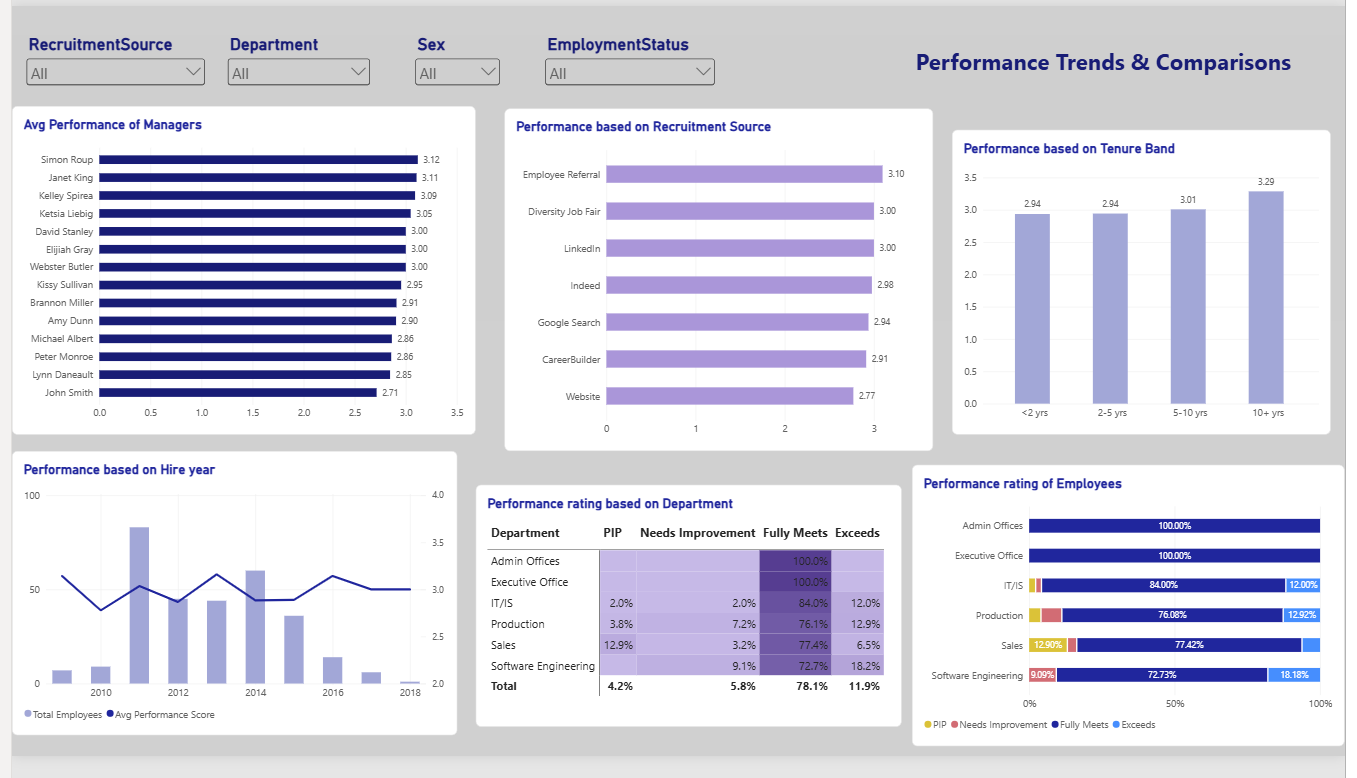

Layout of this report page (visuals, bound fields, positions):
{"tool":"powerbi","page":{"name":"Performance trends","canvas":[1920,1080],"ordinal":1},"visuals":[{"type":"textbox","box":[1302.2,57.6,598,86.5],"z":0},{"type":"slicer","fields":{"Values":["HR.Department"]},"box":[306.2,41.4,214.3,102.7],"z":1000},{"type":"slicer","fields":{"Values":["HR.EmploymentStatus"]},"box":[763.7,41.4,254,102.7],"z":2000},{"type":"slicer","fields":{"Values":["HR.Sex"]},"box":[576.4,41.4,131.5,104.5],"z":3000},{"type":"slicer","fields":{"Values":["HR.RecruitmentSource"]},"box":[16.2,41.4,266.6,102.7],"z":4000},{"type":"lineClusteredColumnComboChart","title":"Performance based on Hire year ","fields":{"Category":["HR.Hire Year"],"Y":["HR.Total Employees"],"Y2":["HR.Avg Performance Score"]},"box":[0,641.9,641.9,409.9],"z":5000},{"type":"hundredPercentStackedBarChart","title":"Performance rating  of Employees","fields":{"Category":["HR.Department"],"Series":["Performance Rating.PerformanceScore"],"Y":["HR.Total Employees"]},"box":[1296.8,661,623.2,405.3],"z":6000},{"type":"pivotTable","title":"Performance rating based on Department","fields":{"Columns":["Performance Rating.PerformanceScore"],"Rows":["HR.Department"],"Values":["HR.Share of Department"]},"box":[668,689,614,348.8],"z":7000},{"type":"clusteredBarChart","title":"Avg Performance of Managers","fields":{"Category":["HR.ManagerName"],"Y":["HR.Avg Performance Score"]},"box":[0,144.1,668.2,473.7],"z":8000},{"type":"clusteredColumnChart","title":"Performance based on Tenure Band","fields":{"Category":["HR.Tenure Band"],"Y":["HR.Avg Performance Score"]},"box":[1354.4,178.3,545.7,439.5],"z":9000},{"type":"clusteredBarChart","title":"Performance based on  Recruitment Source","fields":{"Category":["HR.RecruitmentSource"],"Y":["HR.Avg Performance Score"]},"box":[709.6,147.7,617.8,493.5],"z":10000}]}

Visuals, with their boxes in screenshot pixels (x1, y1, x2, y2), scaled from the page's 1920x1080 canvas onto the 1357x778 screenshot:
textbox: 920,41,1343,104
slicer - HR.Department: 216,30,368,104
slicer - HR.EmploymentStatus: 540,30,719,104
slicer - HR.Sex: 407,30,500,105
slicer - HR.RecruitmentSource: 11,30,200,104
"Performance based on Hire year " lineClusteredColumnComboChart: 0,462,454,758
"Performance rating  of Employees" hundredPercentStackedBarChart: 917,476,1356,768
"Performance rating based on Department" pivotTable: 472,496,906,748
"Avg Performance of Managers" clusteredBarChart: 0,104,472,445
"Performance based on Tenure Band" clusteredColumnChart: 957,128,1343,445
"Performance based on  Recruitment Source" clusteredBarChart: 502,106,938,462
